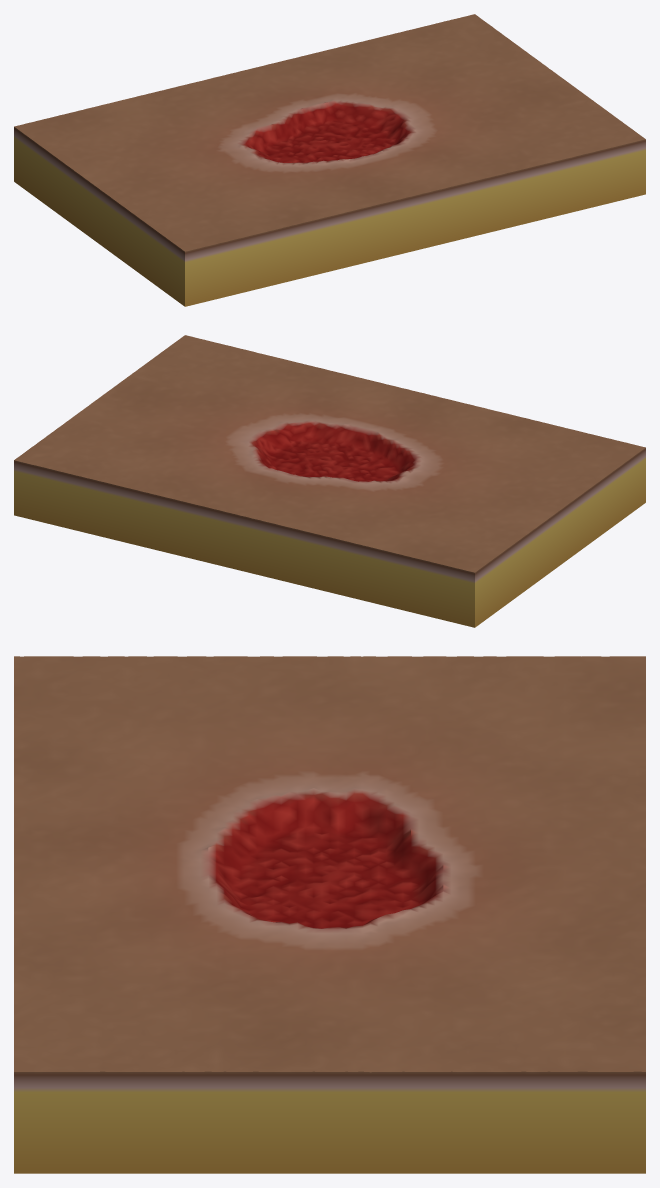
Rendered from care_exsud.glb.
3 views of the same model, one above another, from view 1: azimuth 30°, elevation 25°; view 2: azimuth 150°, elevation 25°; view 3: azimuth 270°, elevation 25° (orthographic). The views are drawn at different scales.
Parts seen in each view (by area): view 1: care_exsud; view 2: care_exsud; view 3: care_exsud.
Part boxes in pixels (left/top/right/bottom): care_exsud: left=14, top=14, right=645, bottom=306; care_exsud: left=14, top=335, right=645, bottom=627; care_exsud: left=14, top=656, right=645, bottom=1173.
Bounding box in the file's own units: 14 × 1.65 × 9.
